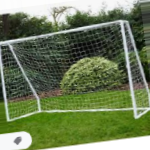goals: (1, 18, 150, 122)
